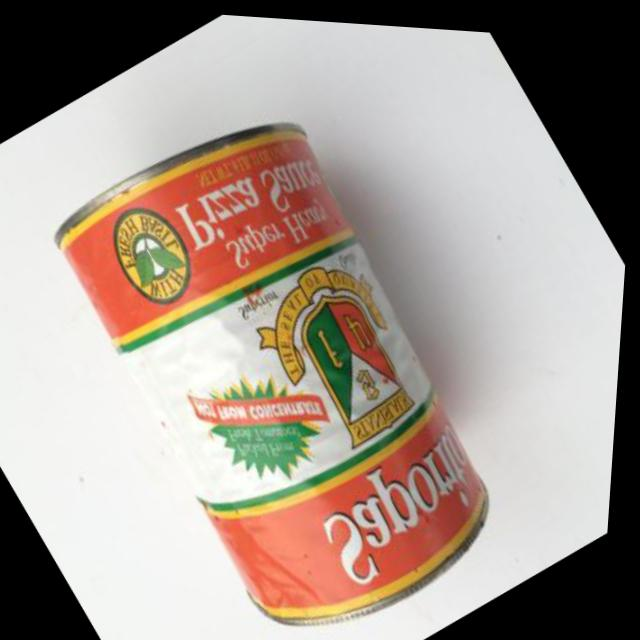metal: (0, 63, 570, 640)
